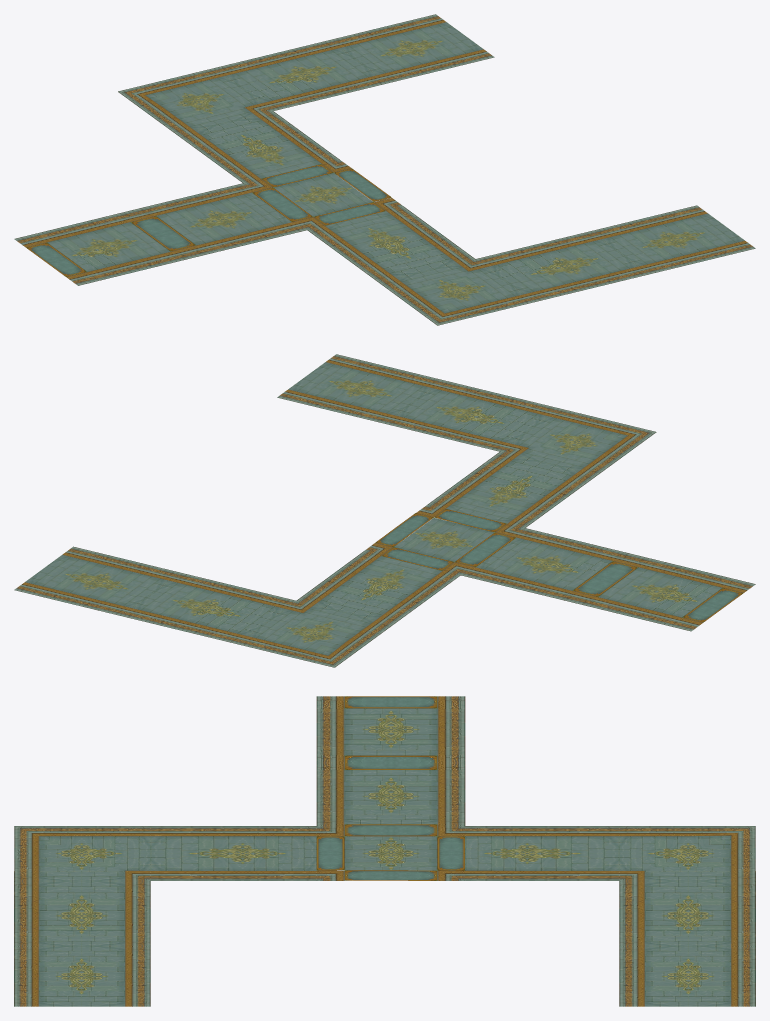
File: Yland1_dm_08 Yland1.FBX
3 renders of one model, top to bottom at view 1: azimuth 30°, elevation 25°; view 2: azimuth 150°, elevation 25°; view 3: azimuth 270°, elevation 25°, orthographic. The views are drawn at different scales.
Visible parts, largest first — view 1: Yland1_dm_08 Yland1; view 2: Yland1_dm_08 Yland1; view 3: Yland1_dm_08 Yland1.
Boxes of the visible parts, x1,y1,x2,y2 form: Yland1_dm_08 Yland1: (14,14,755,325); Yland1_dm_08 Yland1: (14,354,755,667); Yland1_dm_08 Yland1: (14,696,755,1006).
Size of the model in its own units: 50.1 by 0.0531 by 50.75.
